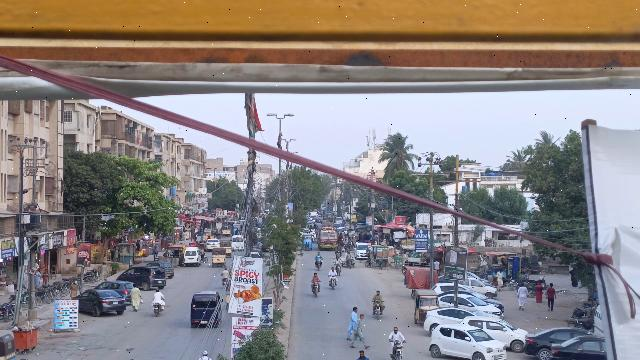Bike: (389, 341, 408, 360), (370, 301, 386, 320), (151, 301, 163, 317), (311, 281, 322, 298), (327, 275, 339, 289), (313, 259, 325, 272), (222, 278, 227, 287)
Car: (427, 323, 507, 360), (463, 313, 527, 351), (523, 325, 580, 360), (439, 291, 508, 318), (549, 335, 610, 360), (76, 288, 126, 316), (116, 265, 167, 288), (96, 279, 133, 301)
Cart: (340, 251, 357, 269)
Person: (350, 313, 370, 350), (346, 306, 359, 343), (515, 281, 529, 313), (386, 324, 408, 344), (544, 283, 559, 312), (129, 282, 143, 312), (151, 288, 165, 304), (370, 289, 385, 303), (326, 265, 339, 278), (310, 271, 321, 284), (220, 265, 230, 279), (333, 256, 343, 265), (315, 251, 323, 261)
Rickshaw: (412, 288, 437, 326), (209, 247, 228, 267)
Van: (189, 289, 222, 327)
